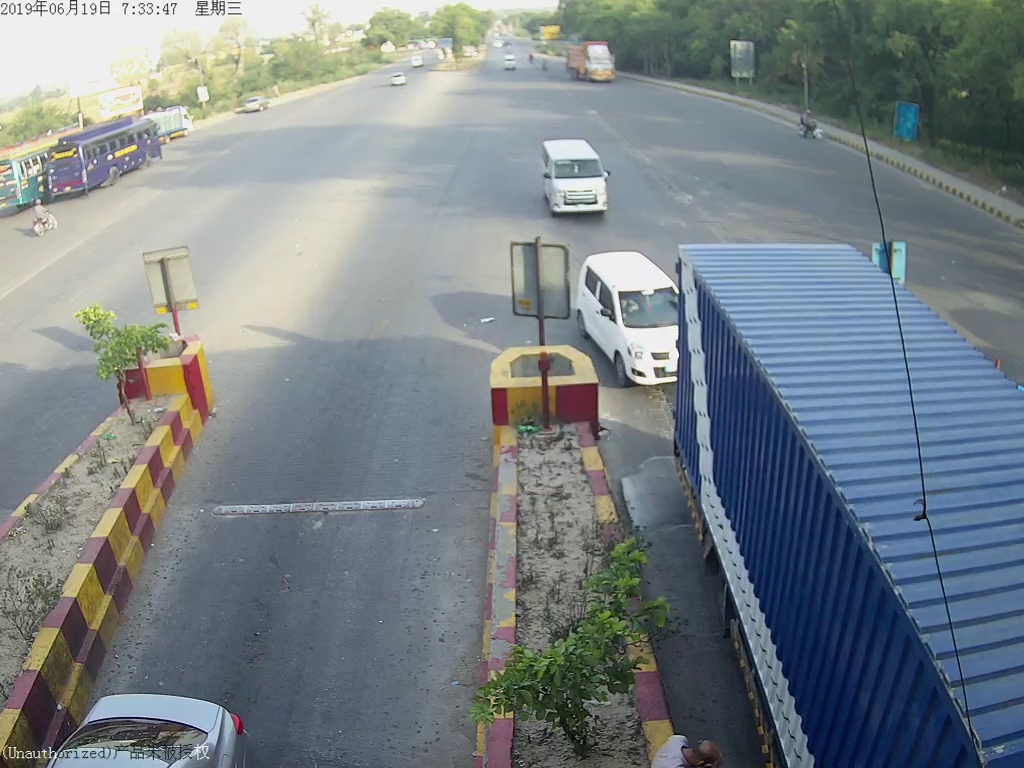Cat-1: (582, 249, 676, 381)
Cat-2: (537, 137, 615, 220)
